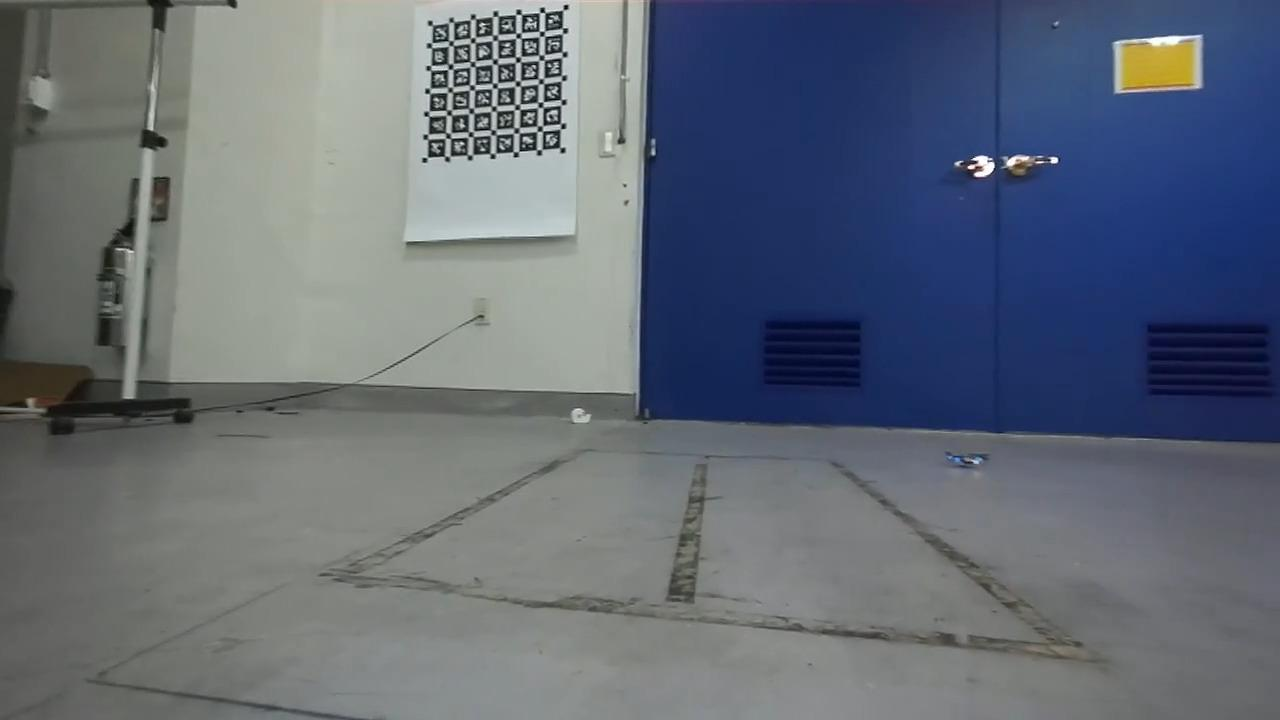crazyflie: (938, 444, 998, 475)
